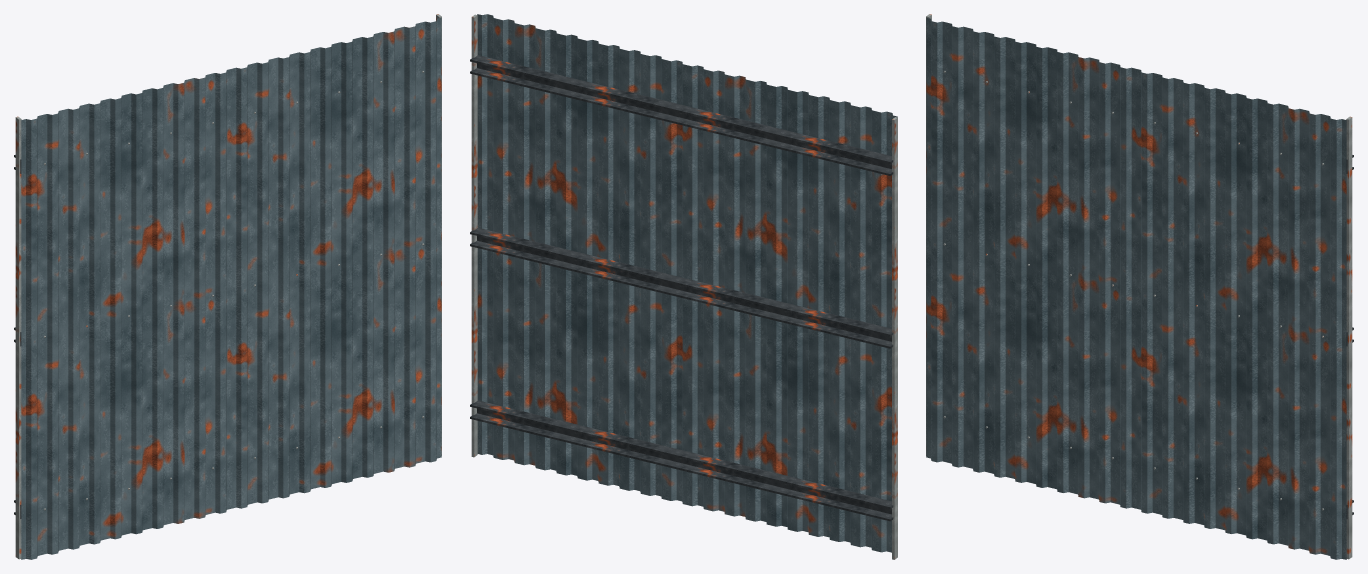
File: WALL_4000x4000_INTACT.glb
3 views of the same model, side by side, from view 1: azimuth 30°, elevation 25°; view 2: azimuth 150°, elevation 25°; view 3: azimuth 330°, elevation 25° (orthographic).
Visible parts, largest first — view 1: WALL_4000x4000_INTACT__Cladding_1p2mm_Corrugated, WALL_4000x4000_INTACT__Joints_VerticalEdgeTrims; view 2: WALL_4000x4000_INTACT__Cladding_1p2mm_Corrugated, WALL_4000x4000_INTACT__Girt_CChannels_Three, WALL_4000x4000_INTACT__Joints_VerticalEdgeTrims; view 3: WALL_4000x4000_INTACT__Cladding_1p2mm_Corrugated, WALL_4000x4000_INTACT__Joints_VerticalEdgeTrims.
Part boxes in pixels (x1,y1,x2,y2): WALL_4000x4000_INTACT__Cladding_1p2mm_Corrugated: (21,17,441,559); WALL_4000x4000_INTACT__Joints_VerticalEdgeTrims: (15,14,441,559); WALL_4000x4000_INTACT__Cladding_1p2mm_Corrugated: (477,14,897,552); WALL_4000x4000_INTACT__Girt_CChannels_Three: (470,55,893,521); WALL_4000x4000_INTACT__Joints_VerticalEdgeTrims: (471,14,897,559); WALL_4000x4000_INTACT__Cladding_1p2mm_Corrugated: (926,17,1346,559); WALL_4000x4000_INTACT__Joints_VerticalEdgeTrims: (926,14,1352,559).
Bounding box in the file's own units: 4.02 × 4 × 0.165.
Materials: 3 (3 with a texture image).
